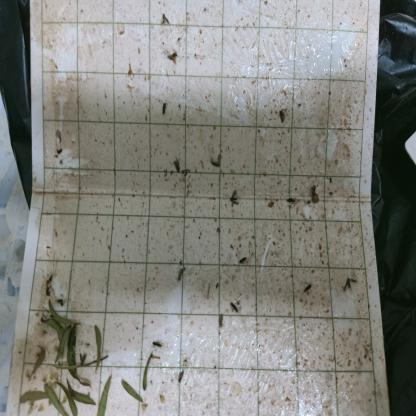prays_oleae: (148, 332, 166, 352), (274, 108, 290, 129), (171, 152, 183, 180), (342, 274, 358, 294), (228, 190, 242, 212), (209, 156, 225, 174), (229, 299, 243, 318), (176, 263, 189, 283), (176, 364, 185, 389), (302, 280, 314, 297), (159, 99, 170, 116), (217, 310, 225, 331), (160, 13, 170, 28), (238, 254, 247, 266)
